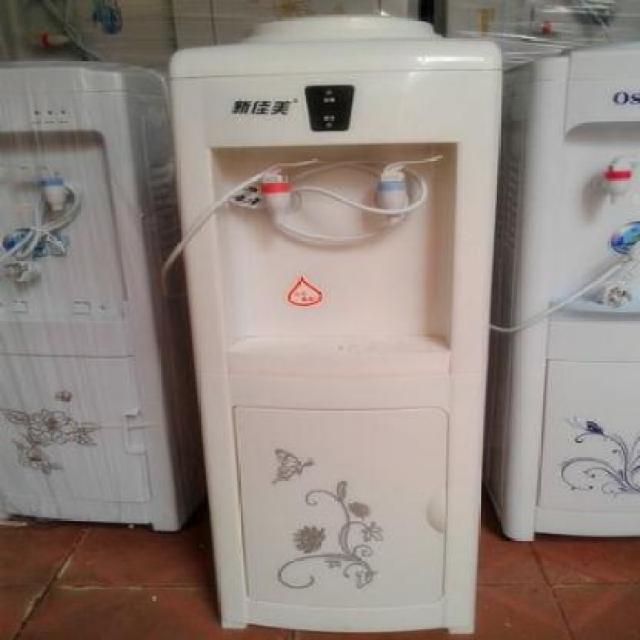cooler: (166, 18, 504, 640)
